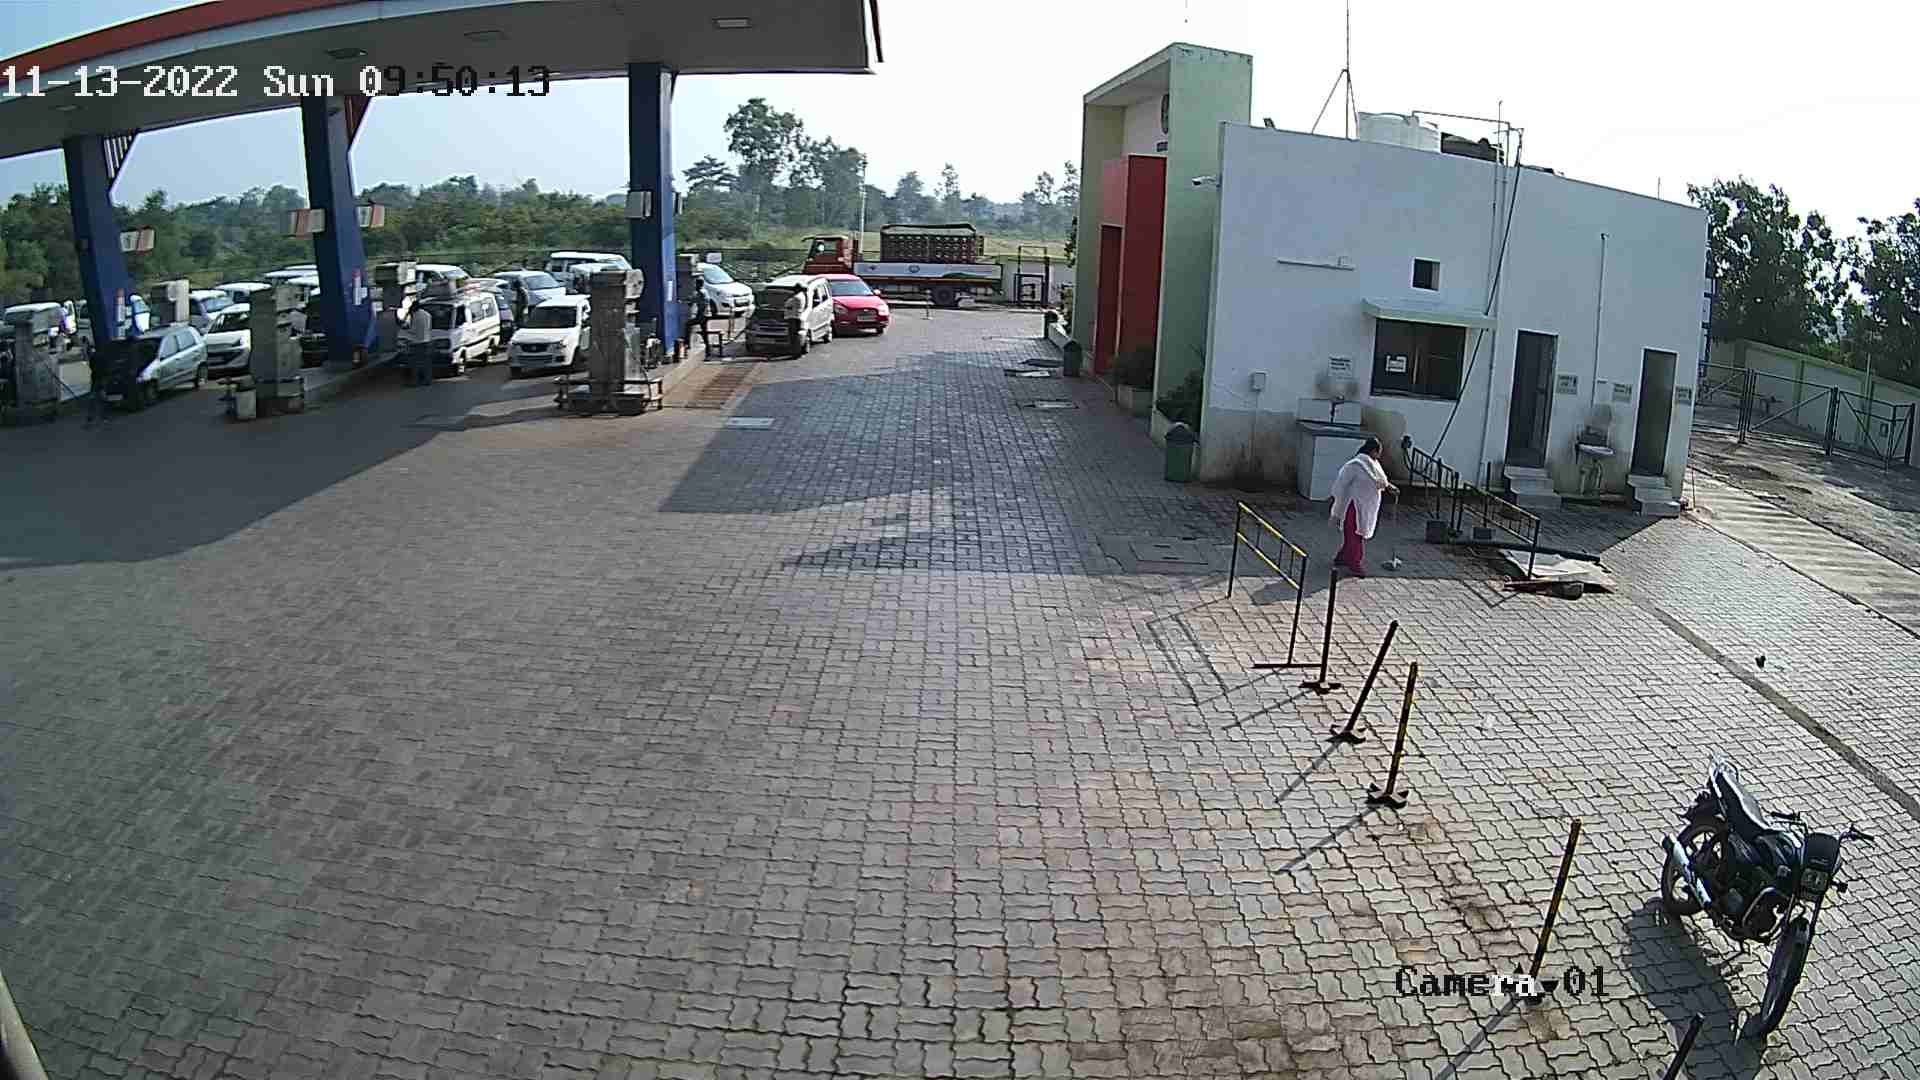Bike: (1622, 735, 1873, 1044)
Car: (382, 262, 508, 382), (84, 314, 216, 413), (733, 266, 837, 361), (498, 280, 592, 380), (260, 266, 334, 368), (194, 291, 257, 386), (1, 295, 83, 367), (819, 266, 895, 338), (487, 266, 568, 330), (682, 253, 756, 320), (539, 245, 637, 287), (179, 280, 235, 340), (402, 258, 471, 302), (487, 281, 518, 351), (216, 274, 274, 306)
HMV: (789, 214, 1011, 311)
